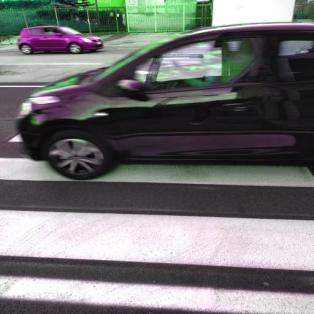Paso de Cebra: (0, 156, 314, 280)
